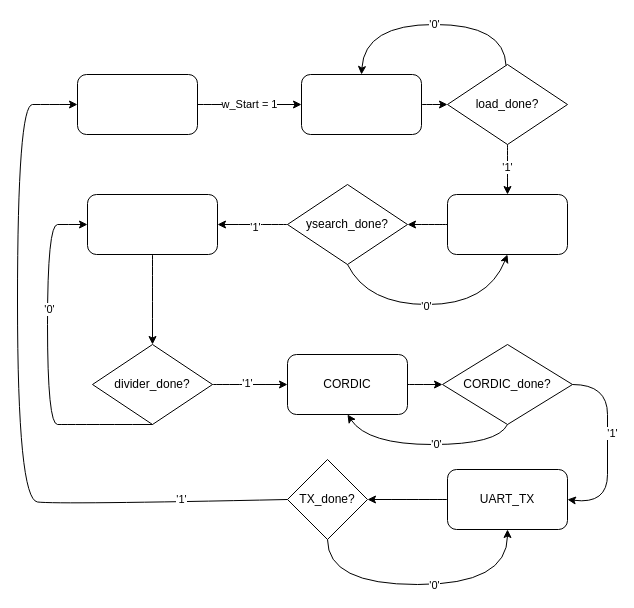
Image size: 634x608. Some labels were removed from this diagram. Each missing label, with the centre of its shape:
DIVIDER: the point at 152,224
IDLE: the point at 137,104
LOAD (256 samples): the point at 361,104
Y_Search: the point at 507,224
